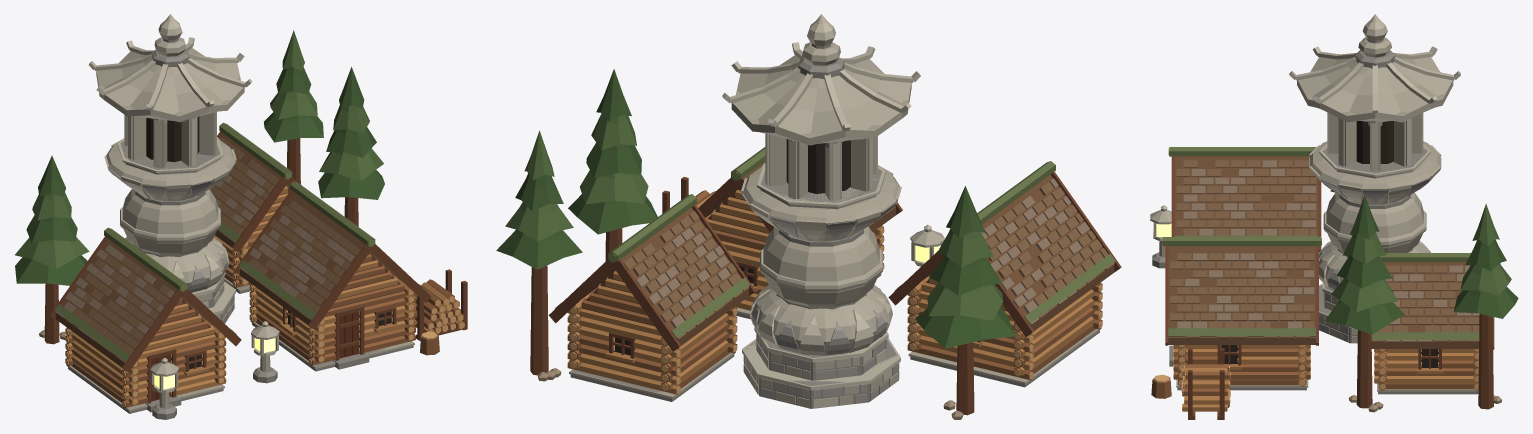
The model's file is pine_hill_town.glb.
3 views of the same model, side by side, from view 1: azimuth 30°, elevation 25°; view 2: azimuth 150°, elevation 25°; view 3: azimuth 270°, elevation 25° (orthographic). The views are drawn at different scales.
Parts seen in each view (by area): view 1: pine_hill_town_PH_Granite, pine_hill_town_PH_Shingle, pine_hill_town_PH_LogMid, pine_hill_town_PH_Needles, pine_hill_town_PH_Log, pine_hill_town_PH_GraniteLight, pine_hill_town_PH_Wood, pine_hill_town_PH_ShingleDark, pine_hill_town_PH_NeedlesLight, pine_hill_town_PH_ShingleLight, pine_hill_town_PH_Moss, pine_hill_town_PH_GraniteShade (+7 smaller); view 2: pine_hill_town_PH_Granite, pine_hill_town_PH_GraniteLight, pine_hill_town_PH_Log, pine_hill_town_PH_Needles, pine_hill_town_PH_Shingle, pine_hill_town_PH_NeedlesLight, pine_hill_town_PH_ShingleDark, pine_hill_town_PH_LogMid, pine_hill_town_PH_Wood, pine_hill_town_PH_GraniteShade, pine_hill_town_PH_Moss, pine_hill_town_PH_ShingleLight (+4 smaller); view 3: pine_hill_town_PH_Granite, pine_hill_town_PH_Shingle, pine_hill_town_PH_ShingleDark, pine_hill_town_PH_GraniteLight, pine_hill_town_PH_Moss, pine_hill_town_PH_ShingleLight, pine_hill_town_PH_Needles, pine_hill_town_PH_LogMid, pine_hill_town_PH_Log, pine_hill_town_PH_NeedlesLight, pine_hill_town_PH_GraniteShade, pine_hill_town_PH_Trunk (+5 smaller).
Part boxes in pixels (<box>): pine_hill_town_PH_Granite: <box>66,37,414,411</box>; pine_hill_town_PH_Shingle: <box>62,137,360,362</box>; pine_hill_town_PH_LogMid: <box>65,238,460,408</box>; pine_hill_town_PH_Needles: <box>15,67,384,285</box>; pine_hill_town_PH_Log: <box>65,186,464,405</box>; pine_hill_town_PH_GraniteLight: <box>89,14,276,393</box>; pine_hill_town_PH_Wood: <box>50,131,467,391</box>; pine_hill_town_PH_ShingleDark: <box>55,134,402,367</box>; pine_hill_town_PH_NeedlesLight: <box>15,30,383,268</box>; pine_hill_town_PH_ShingleLight: <box>55,169,354,339</box>; pine_hill_town_PH_Moss: <box>55,122,426,361</box>; pine_hill_town_PH_GraniteShade: <box>68,38,413,419</box>; pine_hill_town_PH_Granite: <box>569,42,1101,407</box>; pine_hill_town_PH_GraniteLight: <box>722,14,931,408</box>; pine_hill_town_PH_Log: <box>567,189,1102,394</box>; pine_hill_town_PH_Needles: <box>496,69,1015,348</box>; pine_hill_town_PH_Shingle: <box>624,181,1114,339</box>; pine_hill_town_PH_NeedlesLight: <box>505,113,1003,320</box>; pine_hill_town_PH_ShingleDark: <box>582,162,1114,345</box>; pine_hill_town_PH_LogMid: <box>567,190,1102,388</box>; pine_hill_town_PH_Wood: <box>548,171,1121,358</box>; pine_hill_town_PH_GraniteShade: <box>570,43,1099,408</box>; pine_hill_town_PH_Moss: <box>555,147,1115,338</box>; pine_hill_town_PH_ShingleLight: <box>636,178,1089,327</box>; pine_hill_town_PH_Granite: <box>1150,37,1478,391</box>; pine_hill_town_PH_Shingle: <box>1170,160,1479,341</box>; pine_hill_town_PH_ShingleDark: <box>1168,156,1479,348</box>; pine_hill_town_PH_GraniteLight: <box>1153,14,1460,327</box>; pine_hill_town_PH_Moss: <box>1163,147,1479,340</box>; pine_hill_town_PH_ShingleLight: <box>1177,160,1479,341</box>; pine_hill_town_PH_Needles: <box>1324,190,1518,334</box>; pine_hill_town_PH_LogMid: <box>1151,345,1478,407</box>; pine_hill_town_PH_Log: <box>1174,345,1478,411</box>; pine_hill_town_PH_NeedlesLight: <box>1331,203,1511,312</box>; pine_hill_town_PH_GraniteShade: <box>1152,38,1478,394</box>; pine_hill_town_PH_Trunk: <box>1356,314,1493,409</box>.
Bounding box in the file's own units: 4.09 × 3.17 × 3.49.
